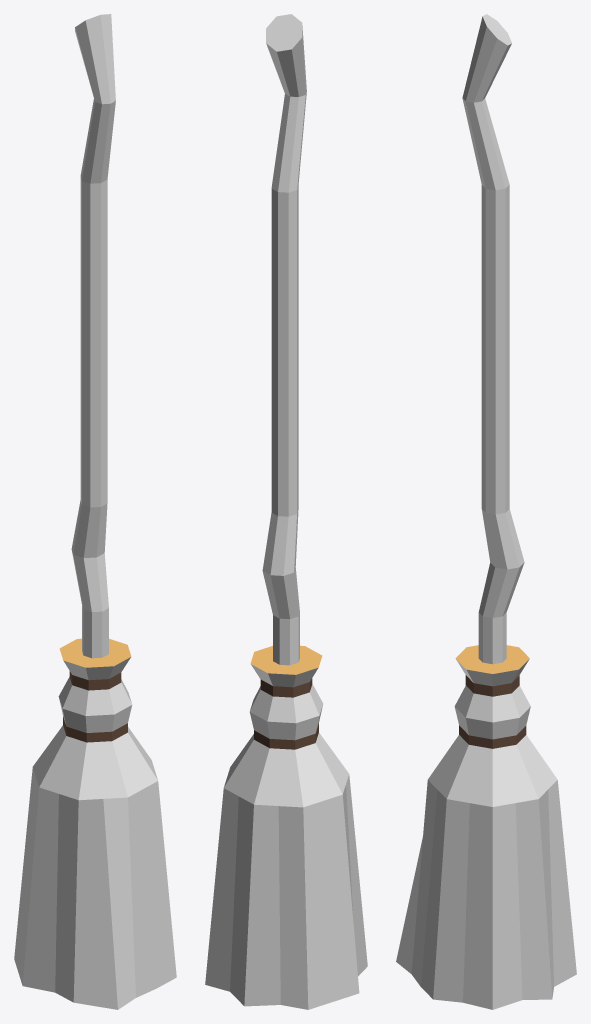
The model's file is bromstick2.fbx.
3 views of the same model, side by side, from view 1: azimuth 30°, elevation 25°; view 2: azimuth 150°, elevation 25°; view 3: azimuth 270°, elevation 25° (orthographic).
Visible parts, largest first — view 1: Cylinder; view 2: Cylinder; view 3: Cylinder.
Boxes of the visible parts, x1,y1,x2,y2 form: Cylinder: [14, 14, 176, 1009]; Cylinder: [205, 14, 367, 1009]; Cylinder: [396, 14, 576, 1009].
Size of the model in its own units: 30 by 188 by 32.22.
